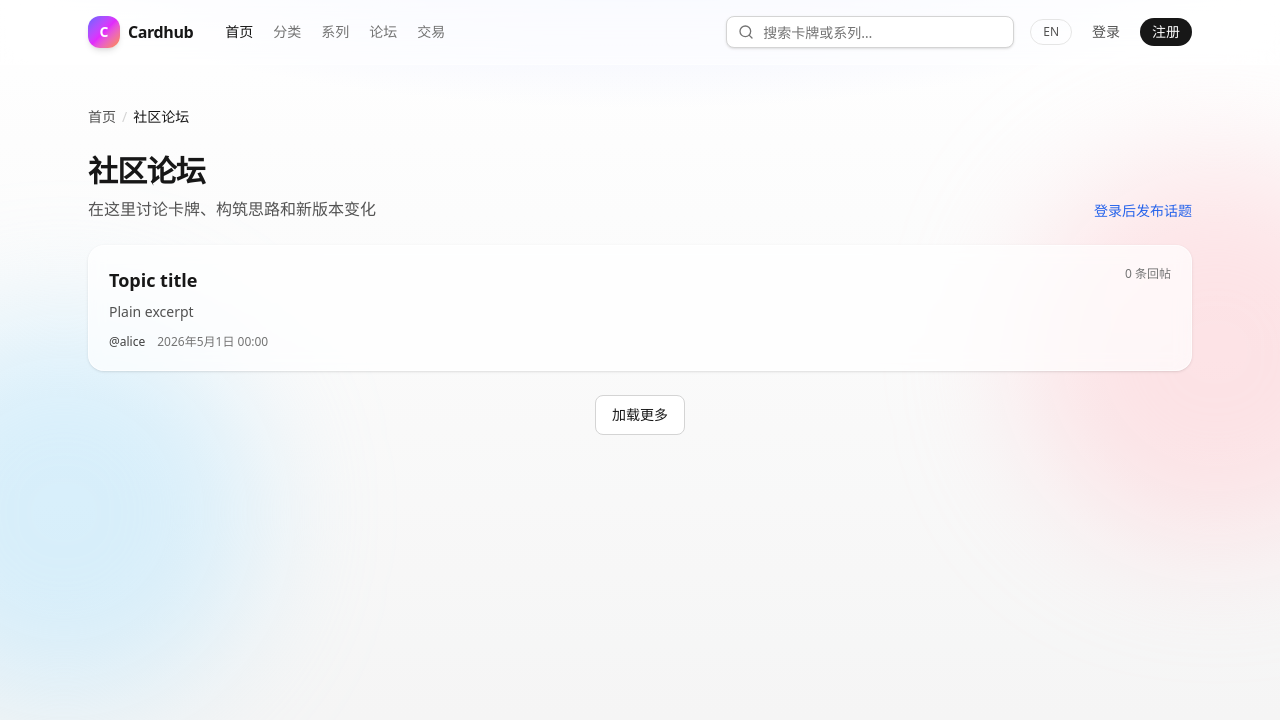
ForumListPage CH-103 rendering › checks fetchNextPage result.isError
The width and height of the screenshot is (1280, 720).
Click the button "加载更多" at [640, 415], box [595,395,685,435]
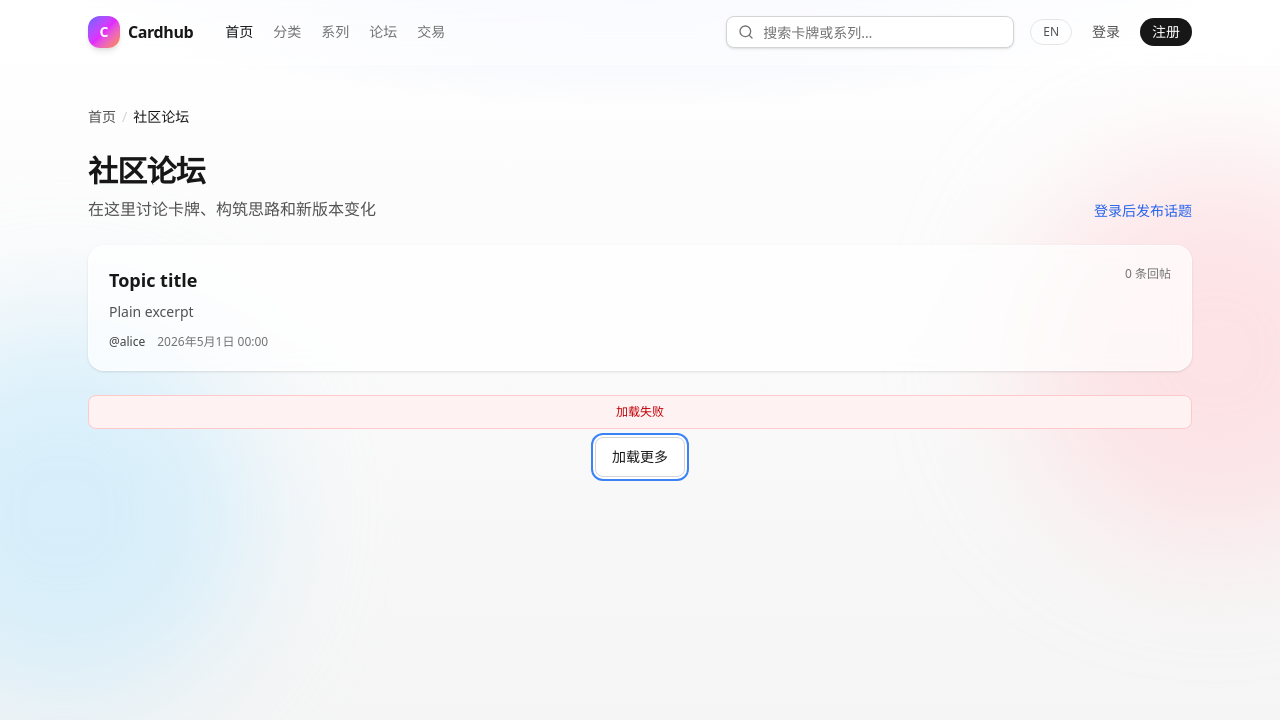
Result: the message reads "加载失败" at [616,403,664,420]
